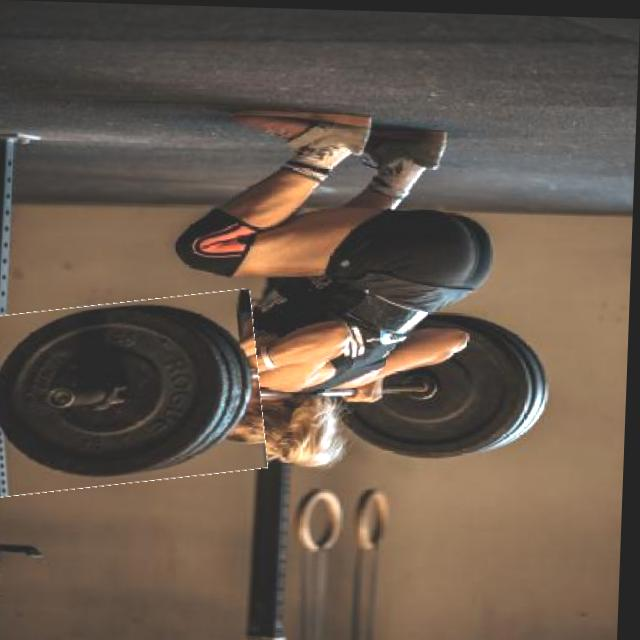barbell: (1, 291, 273, 496)
